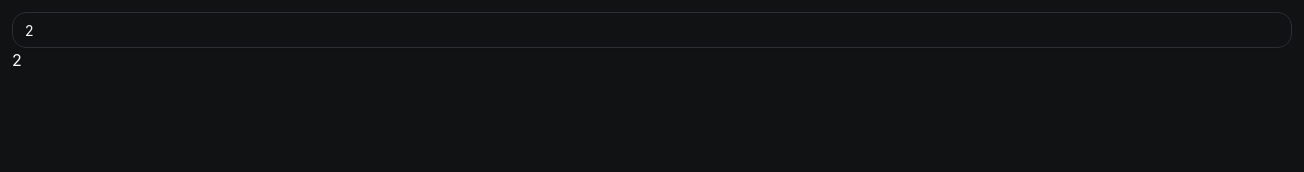
Test: IntegerInput — parcelas (2..36) › permite digitar 6 parcelas e limita acima de 36 só no blur
This screenshot has width=1304, height=172.
Replace the text in the field named "campo" with "6" at (652,30), box [12, 12, 1292, 48]
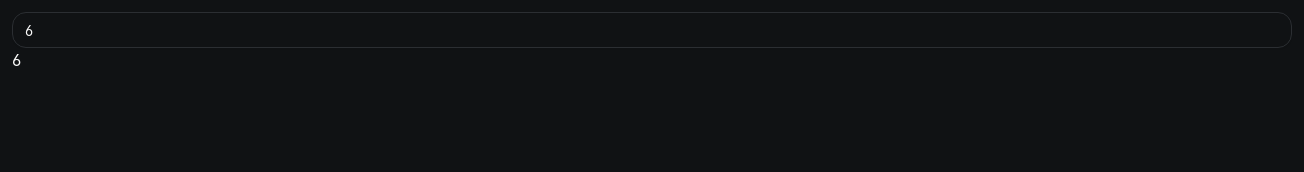
Leave the field named "campo", box [12, 12, 1292, 48]
Replace the text in the field named "campo" with "9" at (652,30), box [12, 12, 1292, 48]
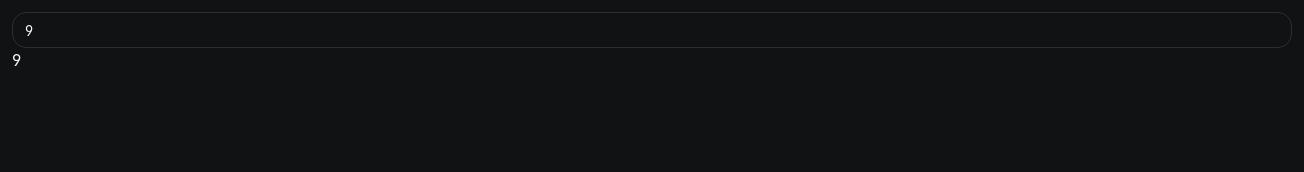
Replace the text in the field named "campo" with "99" at (652,30), box [12, 12, 1292, 48]
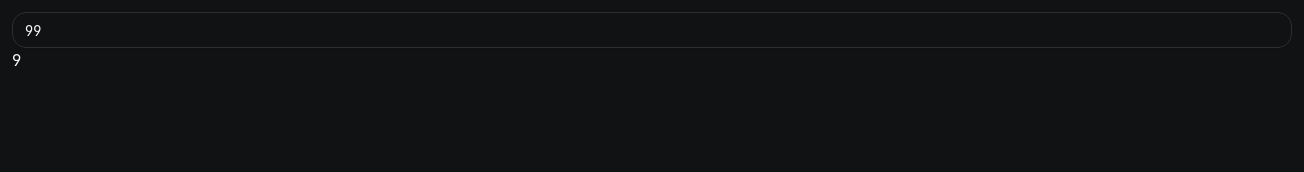
Leave the field named "campo", box [12, 12, 1292, 48]
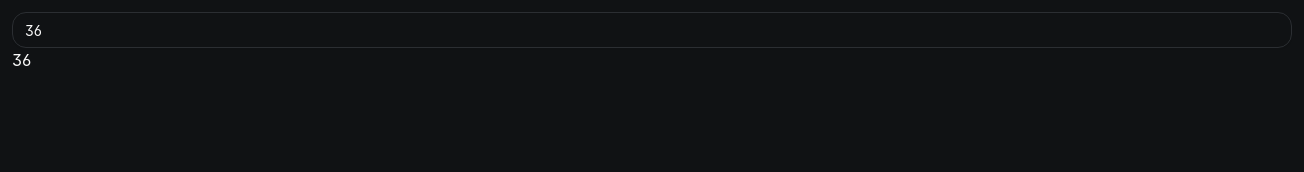
Expected: the field named "campo" holds "36", [12, 12, 1292, 48]
